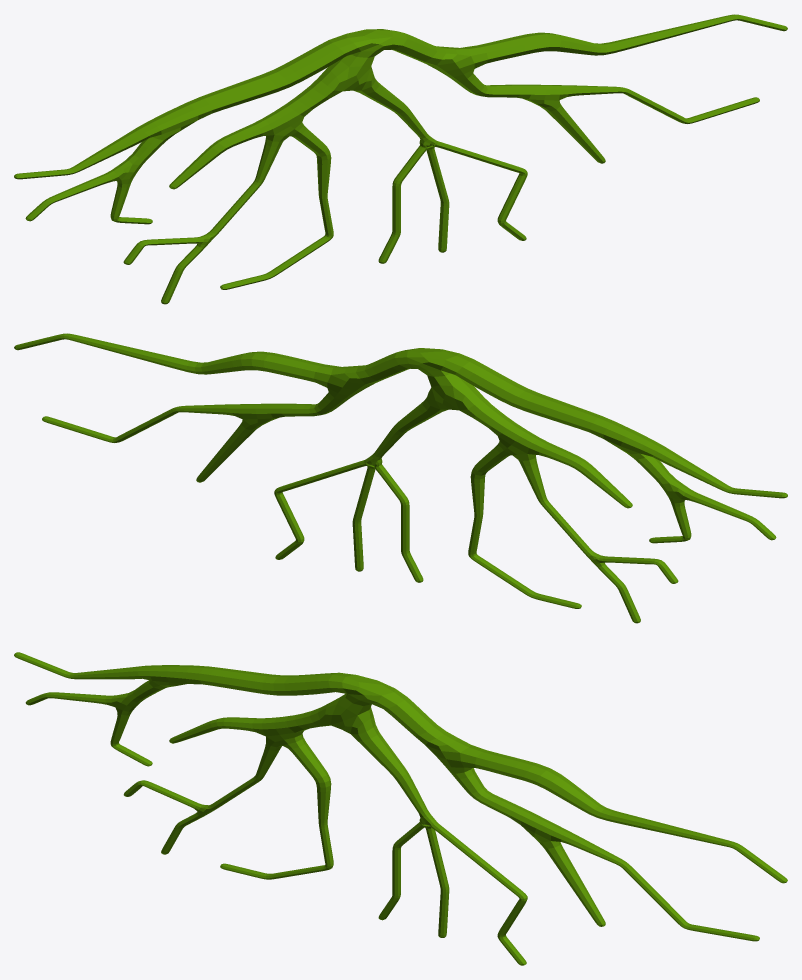
File: roots.gltf
3 renders of one model, top to bottom at view 1: azimuth 30°, elevation 25°; view 2: azimuth 150°, elevation 25°; view 3: azimuth 330°, elevation 25°, orthographic.
Visible parts, largest first — view 1: Cube.002; view 2: Cube.002; view 3: Cube.002.
Part boxes in pixels (x1,y1,x2,y2): Cube.002: (14,14,787,304); Cube.002: (14,333,787,623); Cube.002: (14,652,787,965).
Bounding box in the file's own units: 3.64 × 1.11 × 0.1302.
